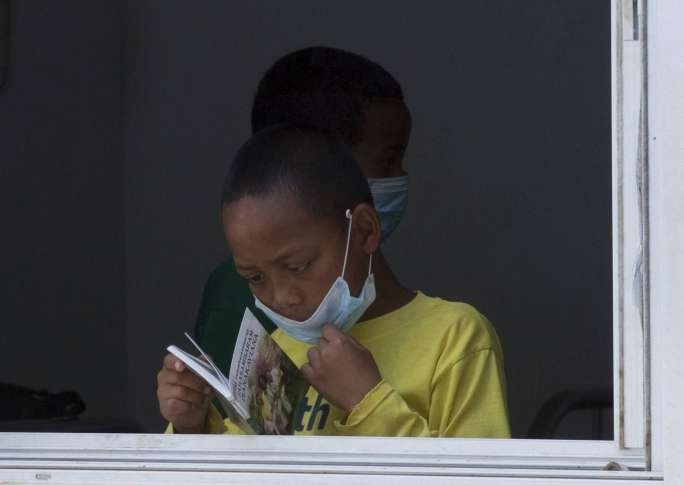face_with_mask: (242, 41, 422, 247), (215, 168, 390, 357)
